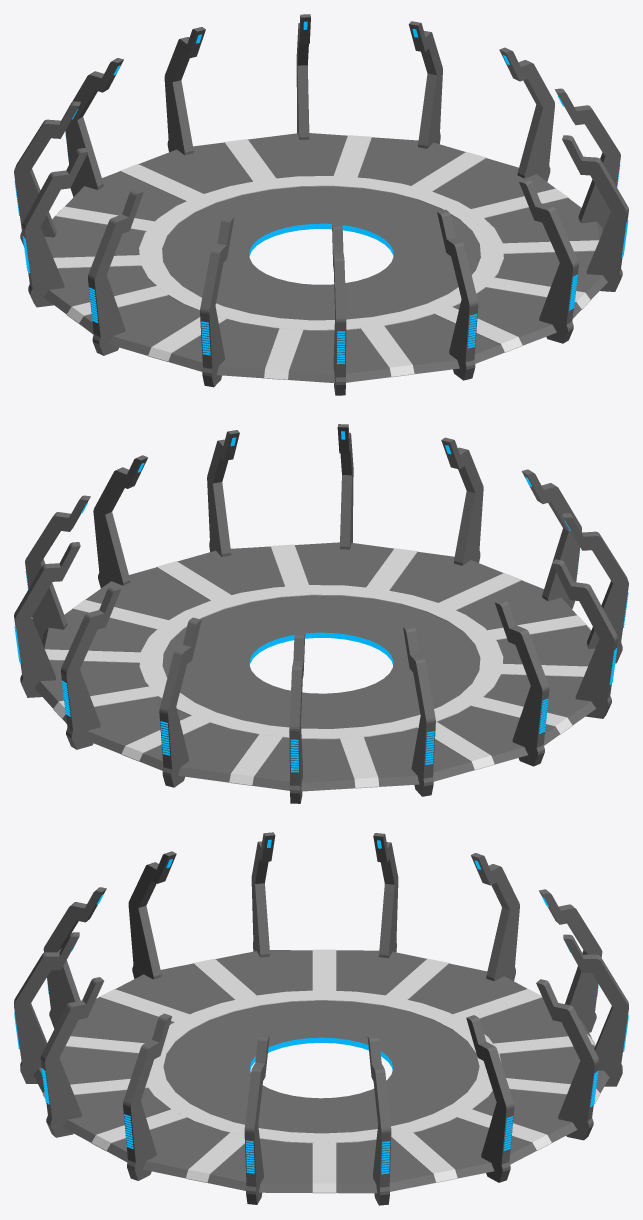
Rendered from platforms.gltf.
The picture shows the model from 3 angles, top to bottom: view 1: azimuth 30°, elevation 25°; view 2: azimuth 150°, elevation 25°; view 3: azimuth 270°, elevation 25°; orthographic projection.
Parts seen in each view (by area): view 1: platform2; view 2: platform2; view 3: platform2.
Part boxes in pixels (x1=…): platform2: x1=14, y1=14, x2=628, y2=395; platform2: x1=14, y1=424, x2=628, y2=803; platform2: x1=14, y1=832, x2=628, y2=1205.
Size of the model in its own units: 3.33 by 0.8996 by 3.4.
